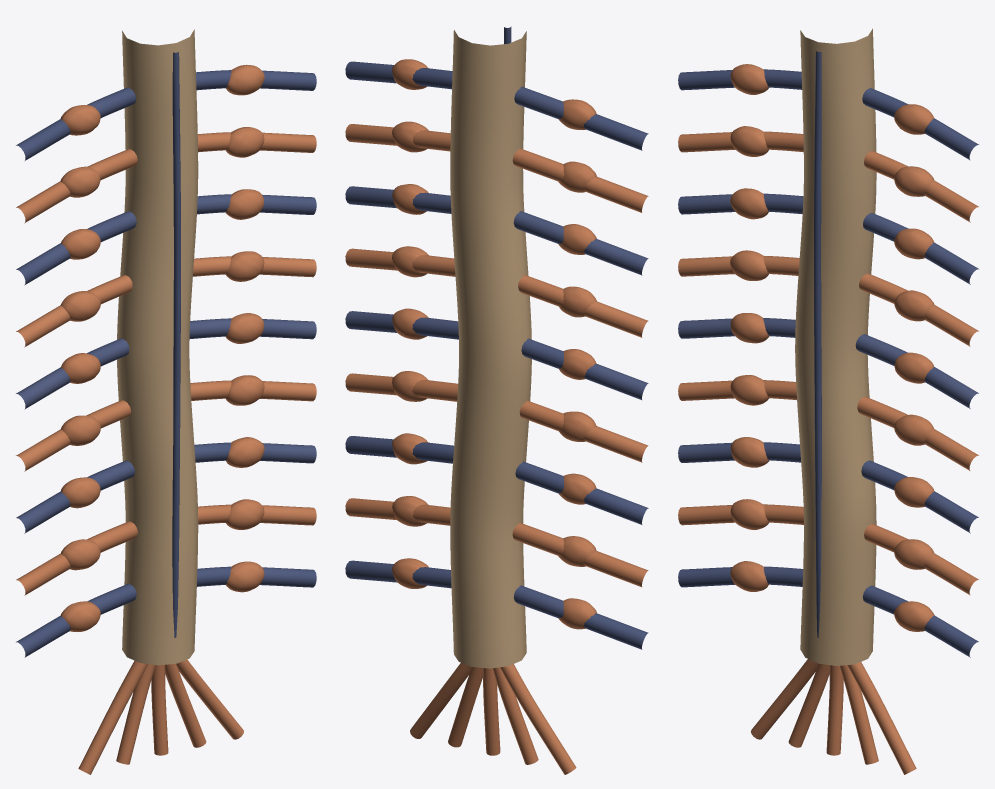
Rendered from spinal-cord.fa61f038.glb.
3 views of the same model, side by side, from view 1: azimuth 30°, elevation 25°; view 2: azimuth 150°, elevation 25°; view 3: azimuth 330°, elevation 25° (orthographic).
Parts seen in each view (by area): view 1: procedural-spinal-cord-surface-1, procedural-spinal-cord-surface-38, procedural-spinal-cord-surface-39, procedural-spinal-cord-surface-30, procedural-spinal-cord-surface-6, procedural-spinal-cord-surface-10, procedural-spinal-cord-surface-34, procedural-spinal-cord-surface-2, procedural-spinal-cord-surface-19, procedural-spinal-cord-surface-23, procedural-spinal-cord-surface-26, procedural-spinal-cord-surface-14 (+31 smaller); view 2: procedural-spinal-cord-surface-1, procedural-spinal-cord-surface-6, procedural-spinal-cord-surface-30, procedural-spinal-cord-surface-10, procedural-spinal-cord-surface-34, procedural-spinal-cord-surface-2, procedural-spinal-cord-surface-26, procedural-spinal-cord-surface-14, procedural-spinal-cord-surface-22, procedural-spinal-cord-surface-18, procedural-spinal-cord-surface-39, procedural-spinal-cord-surface-19 (+30 smaller); view 3: procedural-spinal-cord-surface-1, procedural-spinal-cord-surface-38, procedural-spinal-cord-surface-19, procedural-spinal-cord-surface-23, procedural-spinal-cord-surface-43, procedural-spinal-cord-surface-15, procedural-spinal-cord-surface-30, procedural-spinal-cord-surface-6, procedural-spinal-cord-surface-10, procedural-spinal-cord-surface-34, procedural-spinal-cord-surface-27, procedural-spinal-cord-surface-2 (+31 smaller).
Part boxes in pixels (box(x1,y1,x2,y2)): procedural-spinal-cord-surface-1: box(117, 29, 198, 665); procedural-spinal-cord-surface-38: box(172, 52, 180, 637); procedural-spinal-cord-surface-39: box(78, 660, 147, 774); procedural-spinal-cord-surface-30: box(16, 521, 137, 595); procedural-spinal-cord-surface-6: box(16, 148, 137, 223); procedural-spinal-cord-surface-10: box(16, 211, 136, 285); procedural-spinal-cord-surface-34: box(16, 583, 136, 657); procedural-spinal-cord-surface-2: box(16, 87, 136, 160); procedural-spinal-cord-surface-19: box(189, 318, 316, 339); procedural-spinal-cord-surface-23: box(190, 380, 316, 401); procedural-spinal-cord-surface-26: box(16, 460, 135, 533); procedural-spinal-cord-surface-14: box(16, 274, 132, 347); procedural-spinal-cord-surface-1: box(450, 30, 531, 668); procedural-spinal-cord-surface-6: box(512, 148, 648, 212); procedural-spinal-cord-surface-30: box(512, 522, 648, 587); procedural-spinal-cord-surface-10: box(513, 211, 648, 275); procedural-spinal-cord-surface-34: box(513, 585, 648, 649); procedural-spinal-cord-surface-2: box(514, 86, 648, 150); procedural-spinal-cord-surface-26: box(515, 461, 648, 524); procedural-spinal-cord-surface-14: box(518, 275, 648, 337); procedural-spinal-cord-surface-22: box(519, 400, 648, 462); procedural-spinal-cord-surface-18: box(521, 338, 648, 399); procedural-spinal-cord-surface-39: box(500, 664, 576, 774); procedural-spinal-cord-surface-19: box(345, 311, 458, 339); procedural-spinal-cord-surface-1: box(795, 28, 876, 665); procedural-spinal-cord-surface-38: box(814, 51, 821, 637); procedural-spinal-cord-surface-19: box(855, 334, 978, 408); procedural-spinal-cord-surface-23: box(857, 396, 978, 470); procedural-spinal-cord-surface-43: box(847, 662, 916, 774); procedural-spinal-cord-surface-15: box(859, 273, 978, 346); procedural-spinal-cord-surface-30: box(678, 504, 803, 525); procedural-spinal-cord-surface-6: box(678, 131, 803, 152); procedural-spinal-cord-surface-10: box(678, 193, 803, 214); procedural-spinal-cord-surface-34: box(678, 566, 803, 587); procedural-spinal-cord-surface-27: box(861, 460, 978, 533); procedural-spinal-cord-surface-2: box(678, 69, 802, 90).
Size of the model in its own units: 1.7 by 3.97 by 0.3882.
